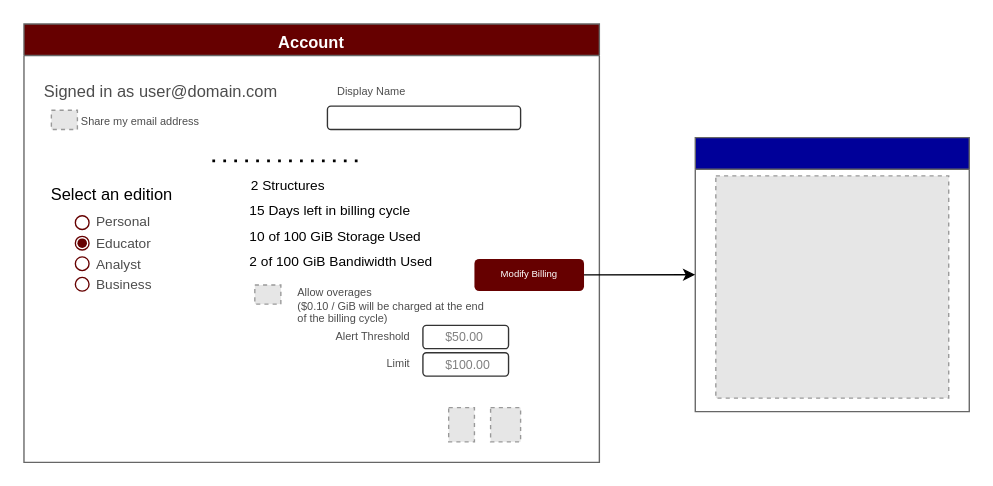
Image size: 993x486. Some labels were removed from this diagram. Grey dashed boxes stand in for pictures. Each missing label, with the box of its shape:
Stripe Subscription Billing API: (694, 136, 969, 412)
user@domain.com: (326, 105, 521, 129)
